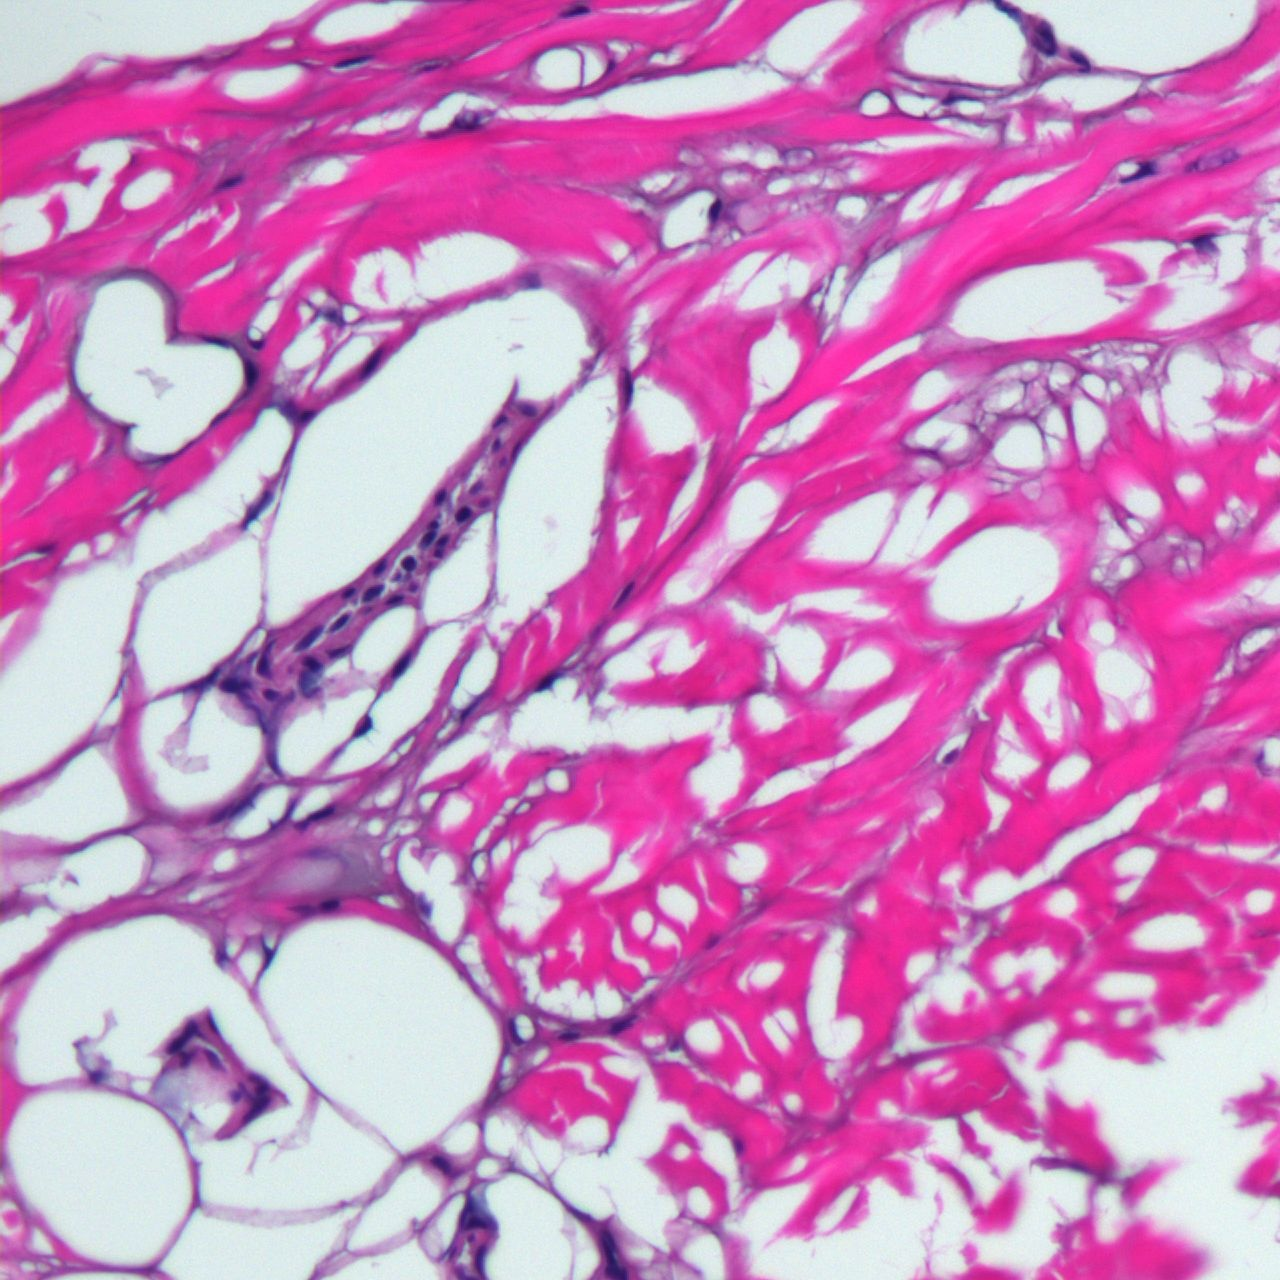nucleus-HE: (225, 1067, 280, 1129), (234, 486, 277, 533), (1024, 16, 1067, 59), (160, 1018, 202, 1060), (352, 343, 392, 386), (1114, 156, 1159, 191), (293, 799, 337, 834), (458, 1195, 495, 1233), (383, 645, 420, 683), (604, 1003, 642, 1039), (289, 620, 327, 656), (251, 637, 281, 680), (208, 167, 249, 198), (1062, 41, 1097, 77), (608, 576, 640, 615), (532, 663, 567, 697), (425, 1148, 459, 1180), (412, 517, 444, 551), (298, 654, 322, 699), (333, 47, 375, 72), (199, 329, 232, 354), (325, 608, 355, 635), (324, 639, 355, 664), (429, 530, 455, 559), (358, 579, 387, 605), (349, 712, 375, 740), (621, 369, 635, 412), (938, 744, 963, 768), (219, 676, 254, 693), (381, 589, 406, 610), (243, 355, 259, 387), (489, 408, 511, 430), (506, 439, 524, 464), (263, 940, 276, 972), (371, 557, 391, 577), (707, 197, 721, 225), (454, 504, 472, 524), (518, 401, 539, 417), (339, 584, 358, 601), (262, 686, 279, 703), (556, 1030, 580, 1042), (319, 897, 339, 911), (433, 487, 447, 506), (300, 408, 317, 423), (401, 555, 416, 570), (491, 437, 501, 452), (408, 583, 419, 591)
